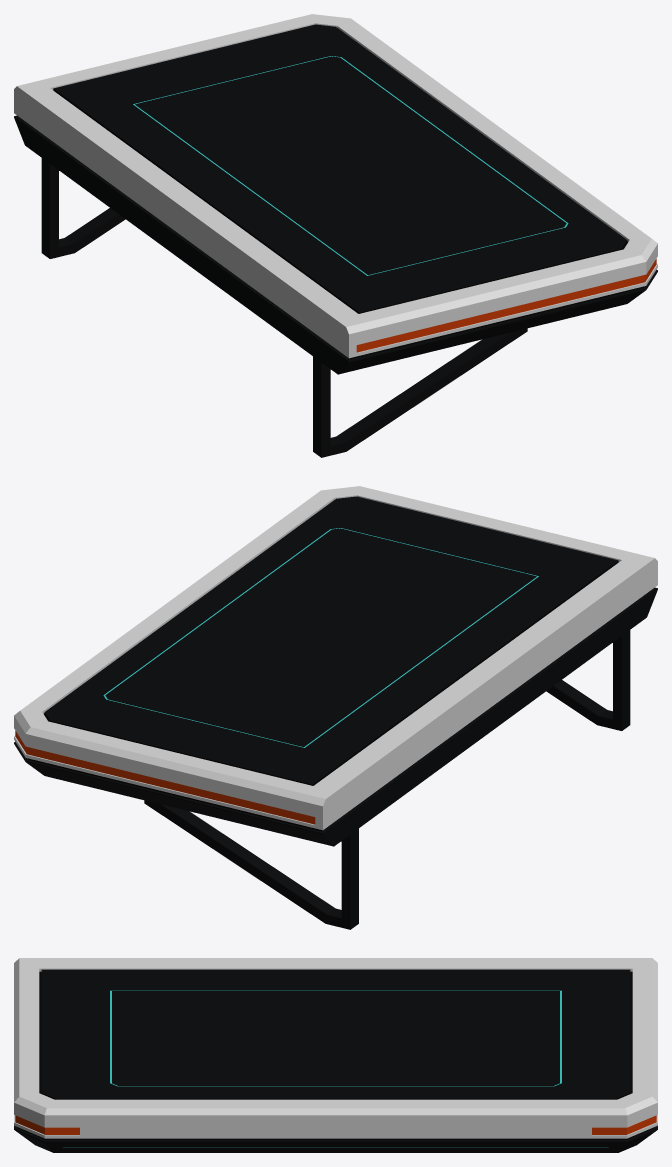
The model's file is SM_Desk_WallMounted.obj.
The picture shows the model from 3 angles, top to bottom: view 1: azimuth 30°, elevation 25°; view 2: azimuth 150°, elevation 25°; view 3: azimuth 270°, elevation 25°; orthographic projection. The views are drawn at different scales.
Parts seen in each view (by area): view 1: SM_Desk_WallMounted; view 2: SM_Desk_WallMounted; view 3: SM_Desk_WallMounted.
Part boxes in pixels (x1,y1,x2,y2): SM_Desk_WallMounted: [14, 14, 657, 457]; SM_Desk_WallMounted: [14, 486, 657, 929]; SM_Desk_WallMounted: [14, 958, 657, 1152].
Bounding box in the file's own units: 0.7 × 0.3064 × 1.25.
